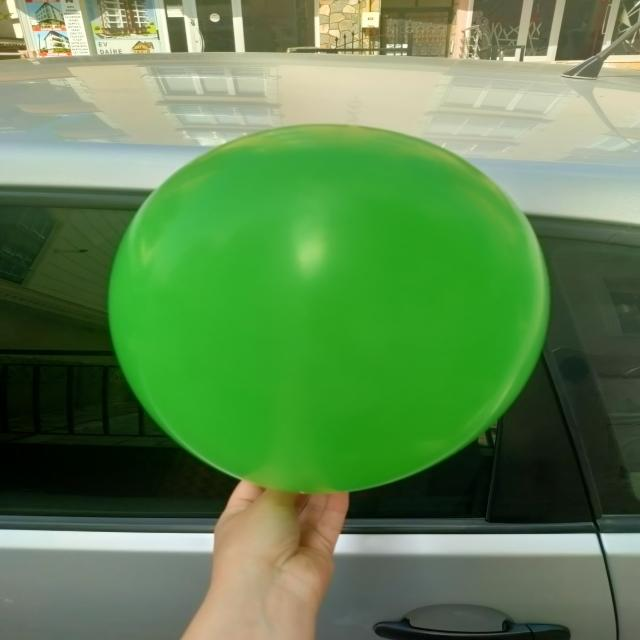green: (115, 125, 547, 498)
